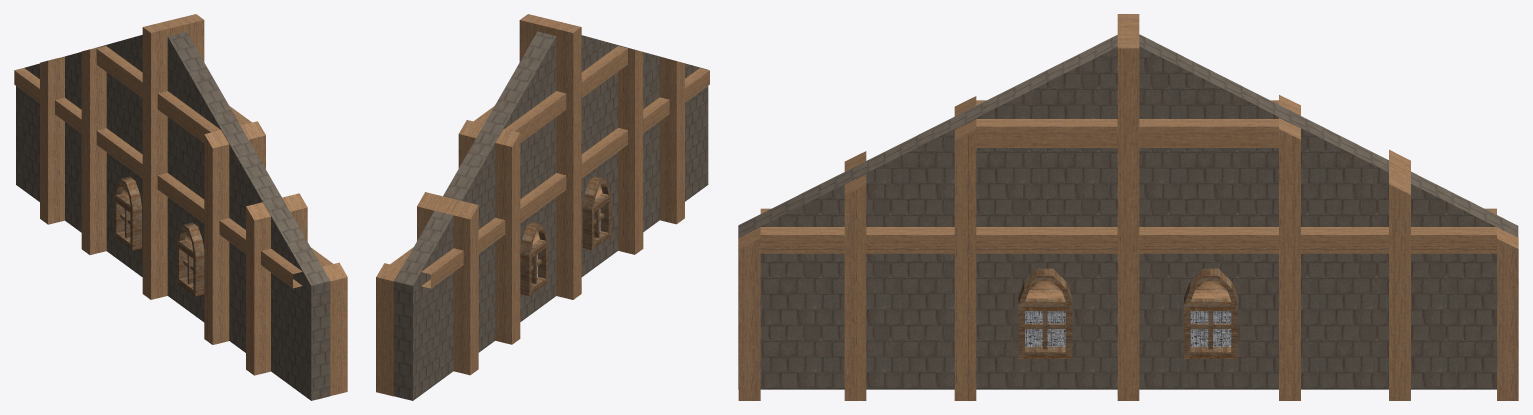
File: Blacksmith_backwall_combined.fbx
The picture shows the model from 3 angles, left to right: view 1: azimuth 30°, elevation 25°; view 2: azimuth 150°, elevation 25°; view 3: azimuth 270°, elevation 25°; orthographic projection. The views are drawn at different scales.
Parts seen in each view (by area): view 1: Blacksmith_backwall; view 2: Blacksmith_backwall; view 3: Blacksmith_backwall.
Part boxes in pixels (box(x1,y1,x2,y2)): Blacksmith_backwall: box(14, 14, 347, 400); Blacksmith_backwall: box(376, 14, 709, 400); Blacksmith_backwall: box(738, 14, 1518, 400).
Bounding box in the file's own units: 10.72 × 51.17 × 103.
